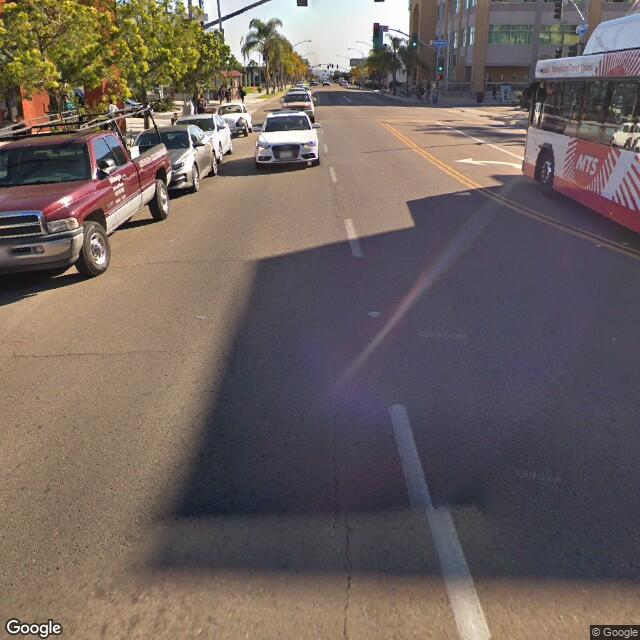road line: (341, 209, 460, 523), (415, 143, 464, 176)
